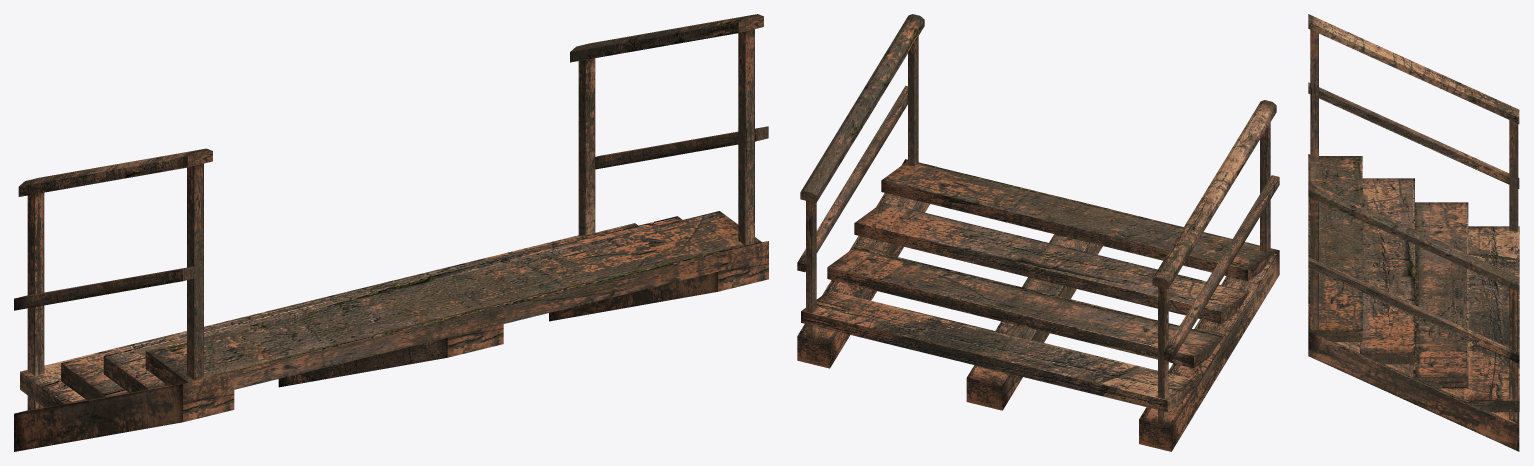
Rendered from factory_stairs_04.DAE.
The picture shows the model from 3 angles, left to right: view 1: azimuth 30°, elevation 25°; view 2: azimuth 150°, elevation 25°; view 3: azimuth 270°, elevation 25°; orthographic projection. The views are drawn at different scales.
Parts seen in each view (by area): view 1: Box082; view 2: Box082; view 3: Box082.
Part boxes in pixels (x1,y1,x2,y2): Box082: [14, 14, 768, 451]; Box082: [797, 14, 1279, 451]; Box082: [1308, 14, 1519, 451].
Bounding box in the file's own units: 4 × 2.75 × 2.
